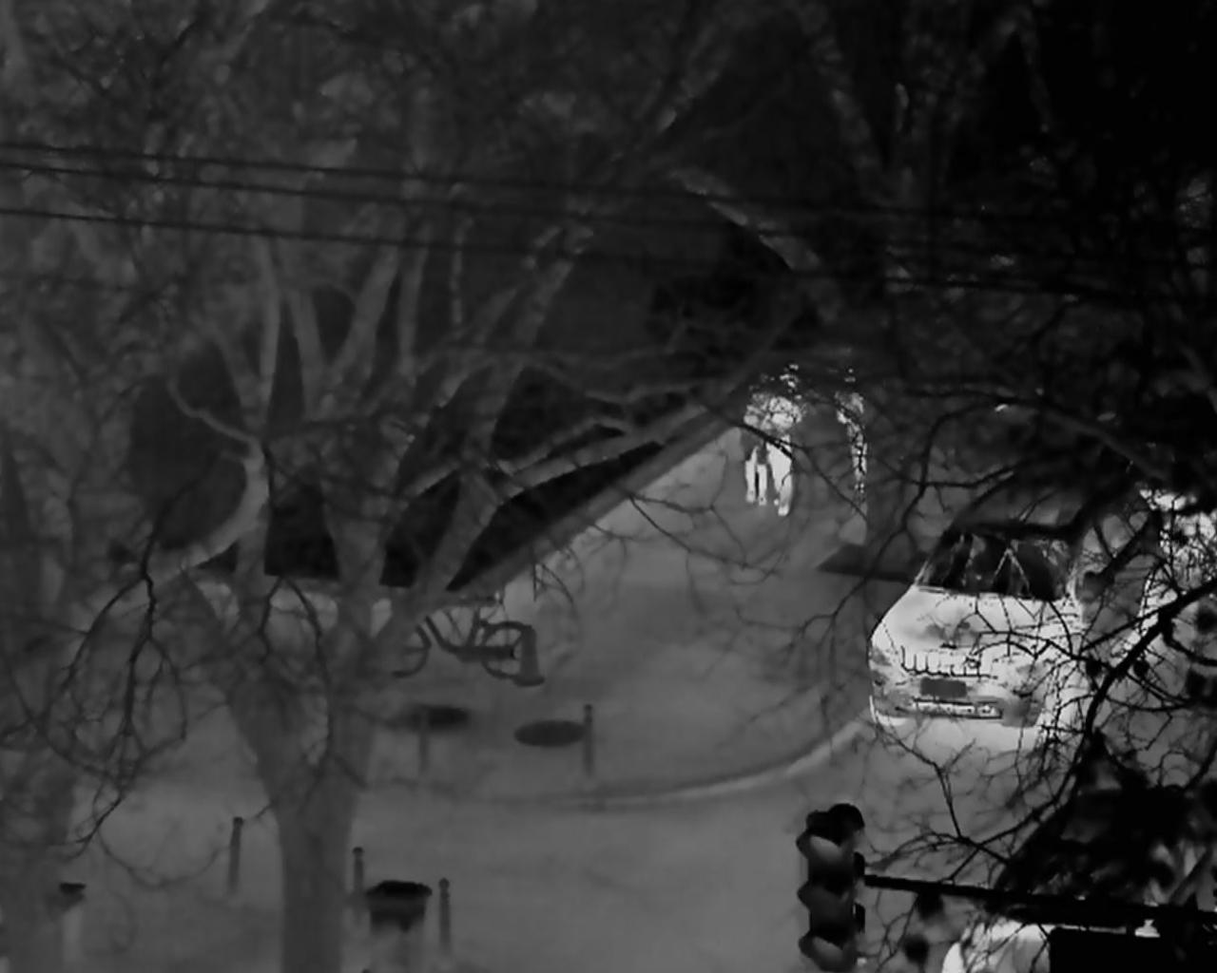person: (763, 391, 804, 516), (741, 391, 768, 506)
